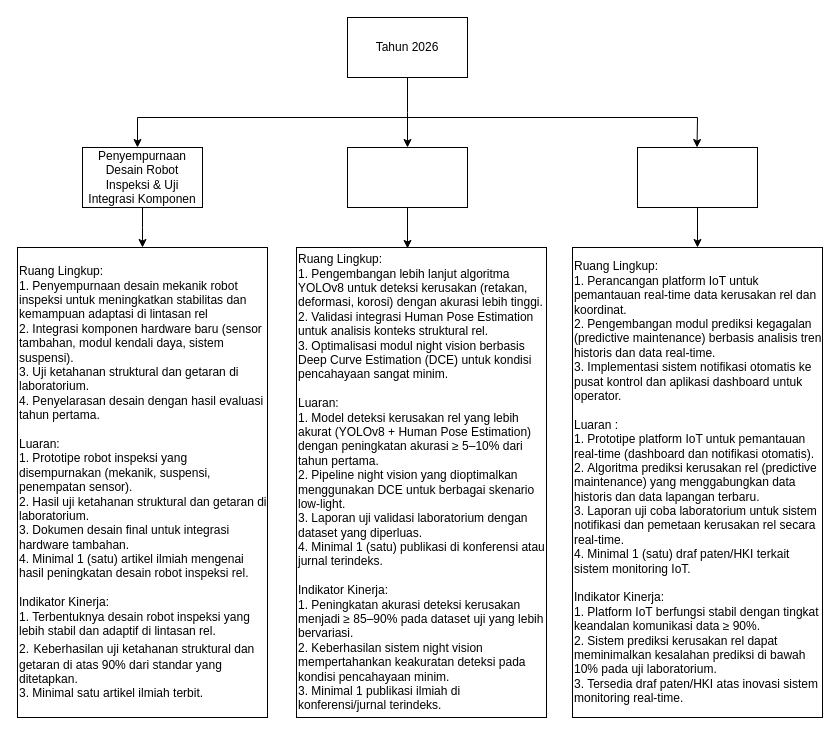
Image size: 840x735. Some labels were removed from this diagram. Here are the shapes that lost their labels. From the top down, the centre of each, then its label:
At [407,177]: "Pengembangan AI Lanjutan & Validasi Algoritma".
At [697,177]: "Pengembangan Sistem Monitoring IoT & Prediksi Kerusakan Real-Time".
